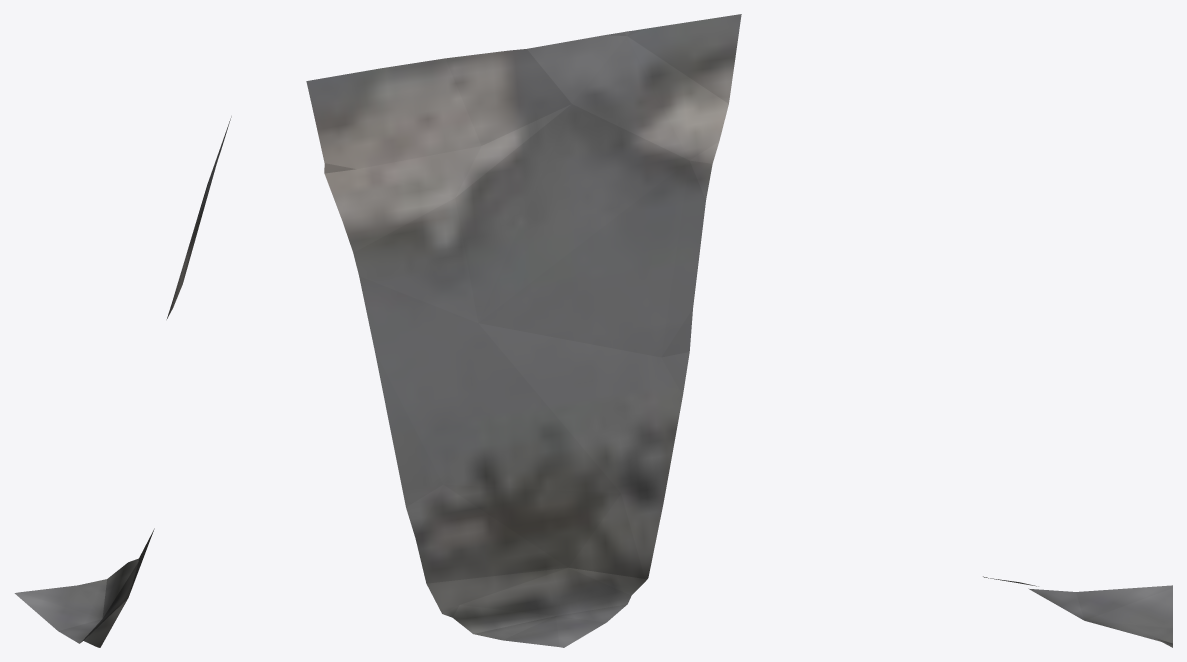
3 renders of one model, left to right at view 1: azimuth 30°, elevation 25°; view 2: azimuth 150°, elevation 25°; view 3: azimuth 270°, elevation 25°, orthographic. The views are drawn at different scales.
Size of the model in its own units: 0.1197 by 0.2274 by 0.1429.
1 material, 1 textured.
